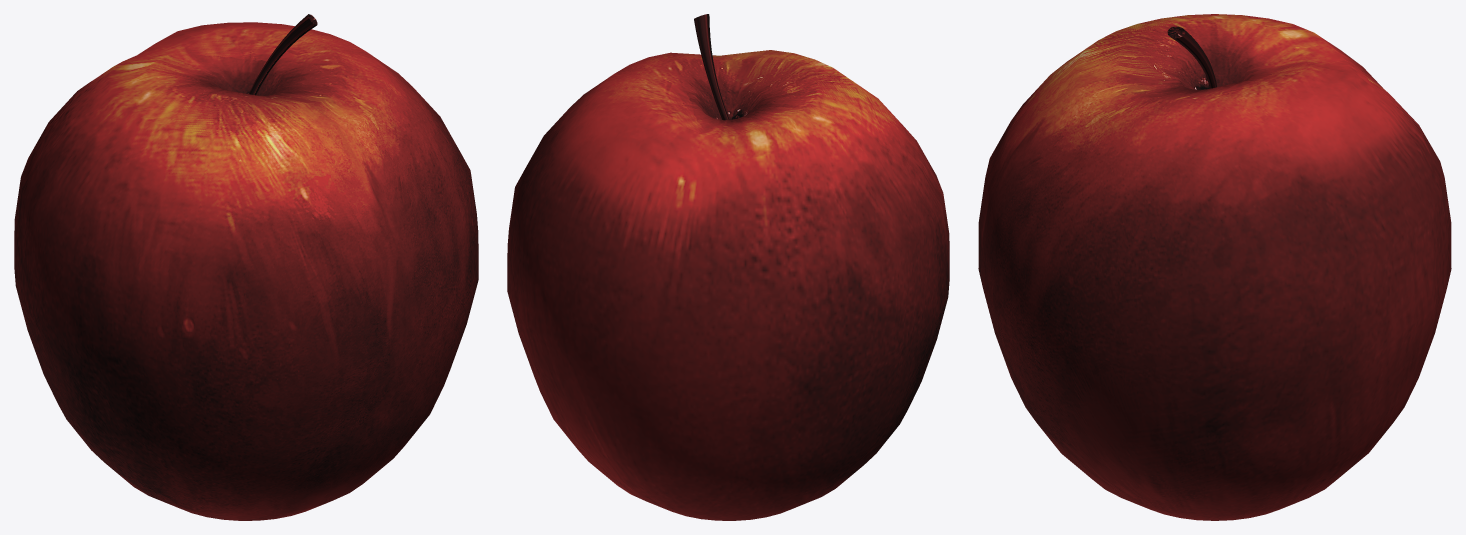
The model's file is Apple.obj.
3 renders of one model, left to right at view 1: azimuth 30°, elevation 25°; view 2: azimuth 150°, elevation 25°; view 3: azimuth 270°, elevation 25°, orthographic. The views are drawn at different scales.
Parts seen in each view (by area): view 1: Apple1; view 2: Apple1; view 3: Apple1.
Boxes of the visible parts, x1,y1,x2,y2 form: Apple1: (14,14,478,520); Apple1: (507,14,949,520); Apple1: (978,14,1451,520).
Size of the model in its own units: 0.9274 by 1.06 by 0.9274.
